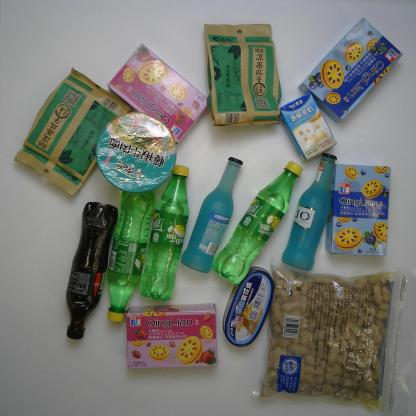Alcohol: (179, 153, 244, 275), (280, 150, 339, 276)
Canned Food: (219, 264, 277, 350)
Dessert: (297, 15, 405, 124), (104, 42, 210, 146), (124, 298, 222, 372), (323, 162, 392, 259)
Dried Food: (249, 256, 416, 415), (11, 65, 135, 200), (200, 19, 284, 128)
Drink: (210, 158, 304, 286), (62, 198, 121, 343), (136, 160, 192, 302), (104, 186, 156, 324)
Instant Noodles: (92, 110, 178, 194)
Milk: (276, 90, 340, 164)
